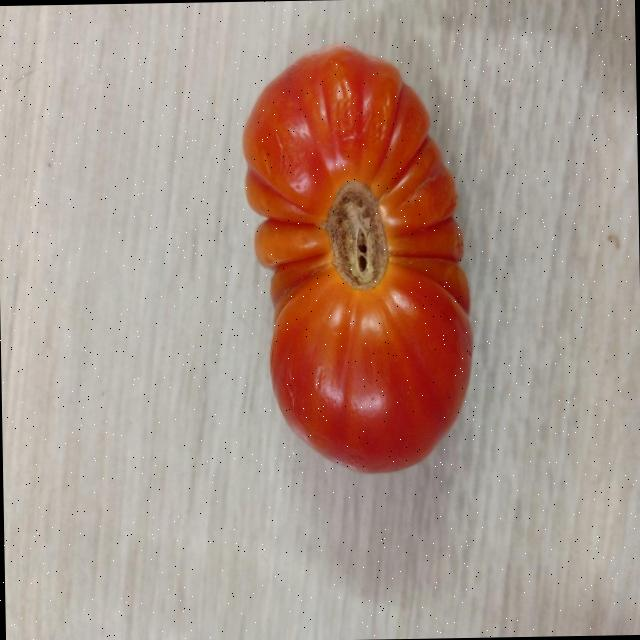Tomato: (236, 41, 478, 480)
